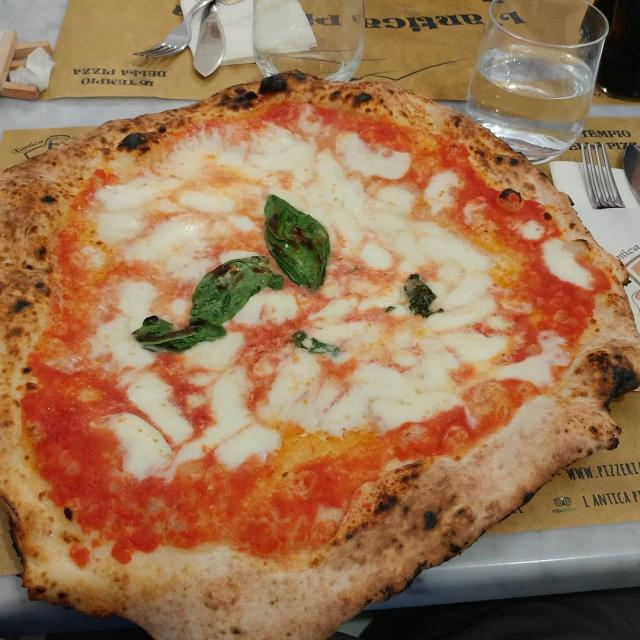basil: (190, 258, 286, 329), (264, 194, 332, 294), (132, 317, 228, 356), (399, 274, 446, 319), (290, 330, 345, 359)
pizza: (0, 74, 640, 640)
